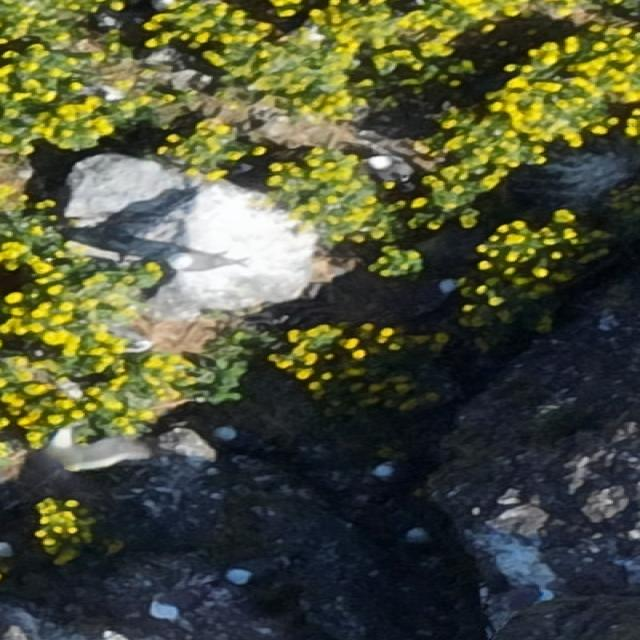F: (30, 421, 138, 474)
umineko: (148, 585, 220, 624), (160, 248, 238, 274), (200, 412, 240, 448), (229, 559, 274, 583), (416, 280, 456, 304), (410, 529, 446, 551), (368, 156, 401, 178), (371, 460, 401, 480)
